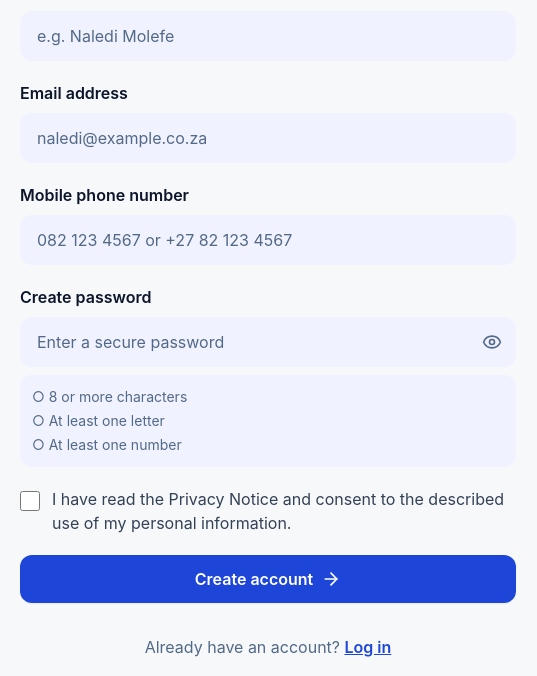
Test case: authentication › AC-1.10 shows validation instead of creating an account without consent
This screenshot has width=537, height=676.
(page scrolled)
Click the button "Create account" at (268, 579), box left=20, top=555, right=516, bottom=603
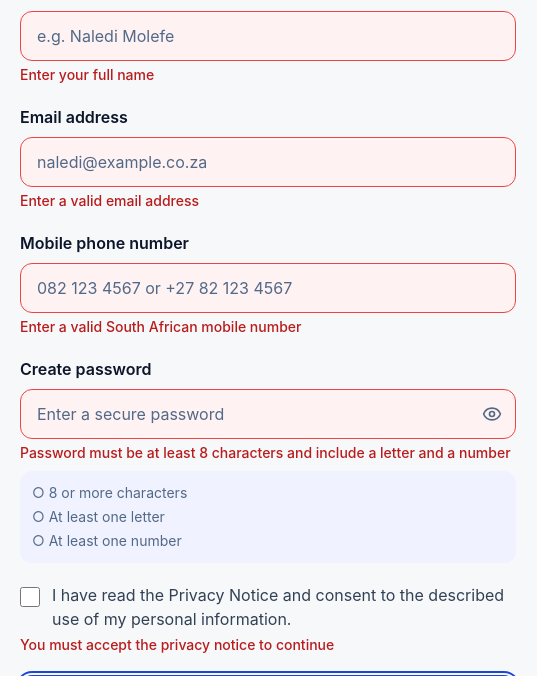
Now the text "You must accept the privacy notice to continue" is shown, box left=20, top=636, right=334, bottom=653
